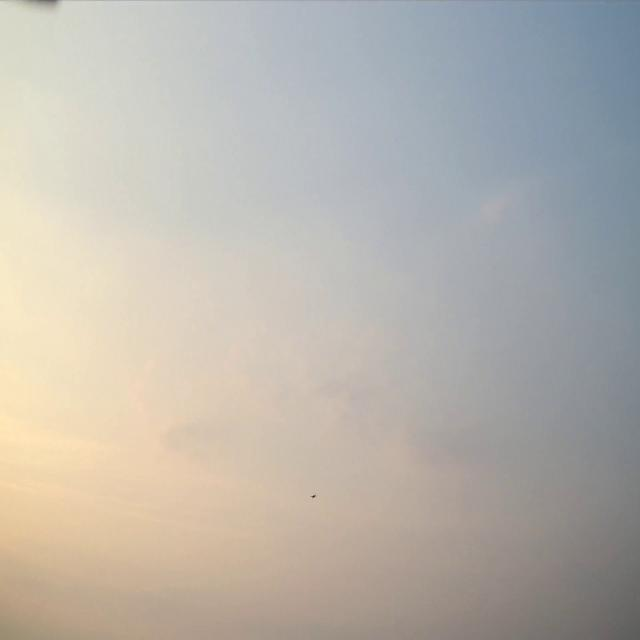drone: (310, 492, 317, 498)
